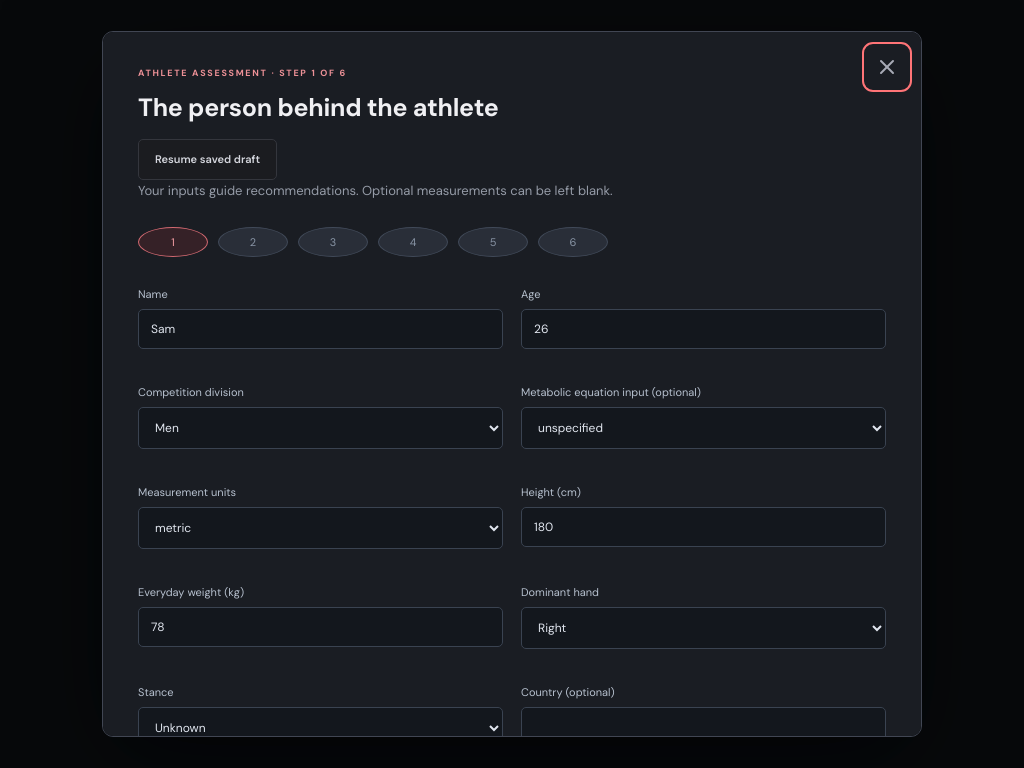
Scenario: athlete assessment › converts imperial measurements to canonical metric values
Select "imperial" in the dropdown labelled "Measurement units" at (320, 528), box [138, 508, 503, 550]
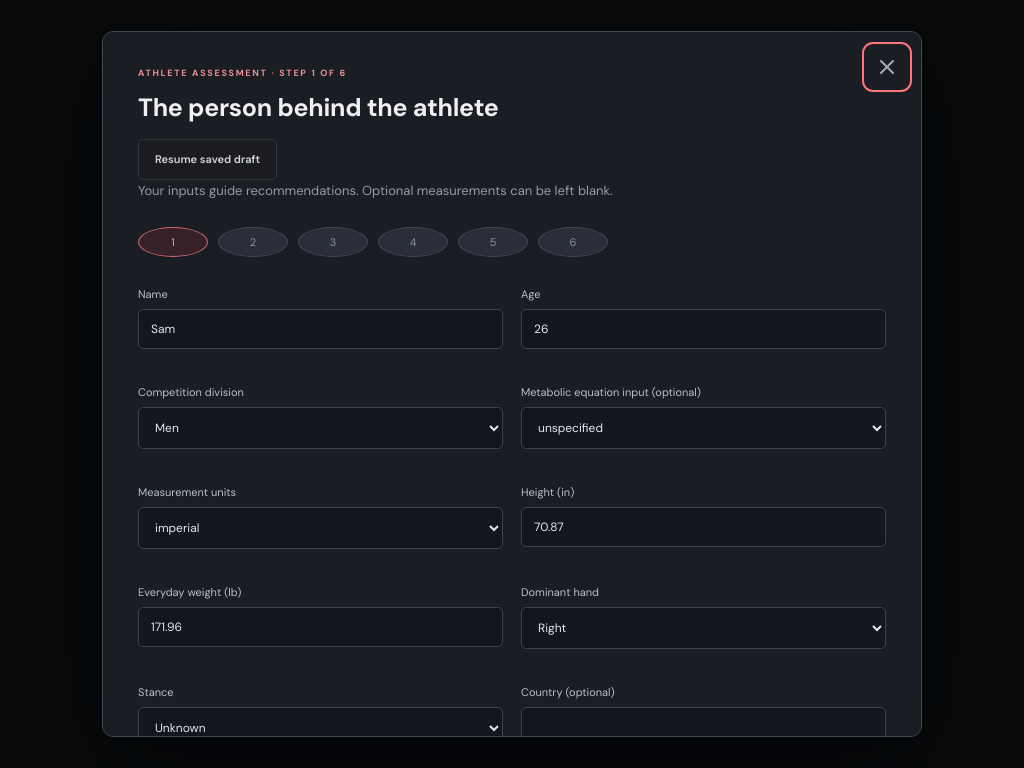
Replace the text in the number field labelled "Height (in)" with "72" at (704, 528), box [521, 508, 886, 548]
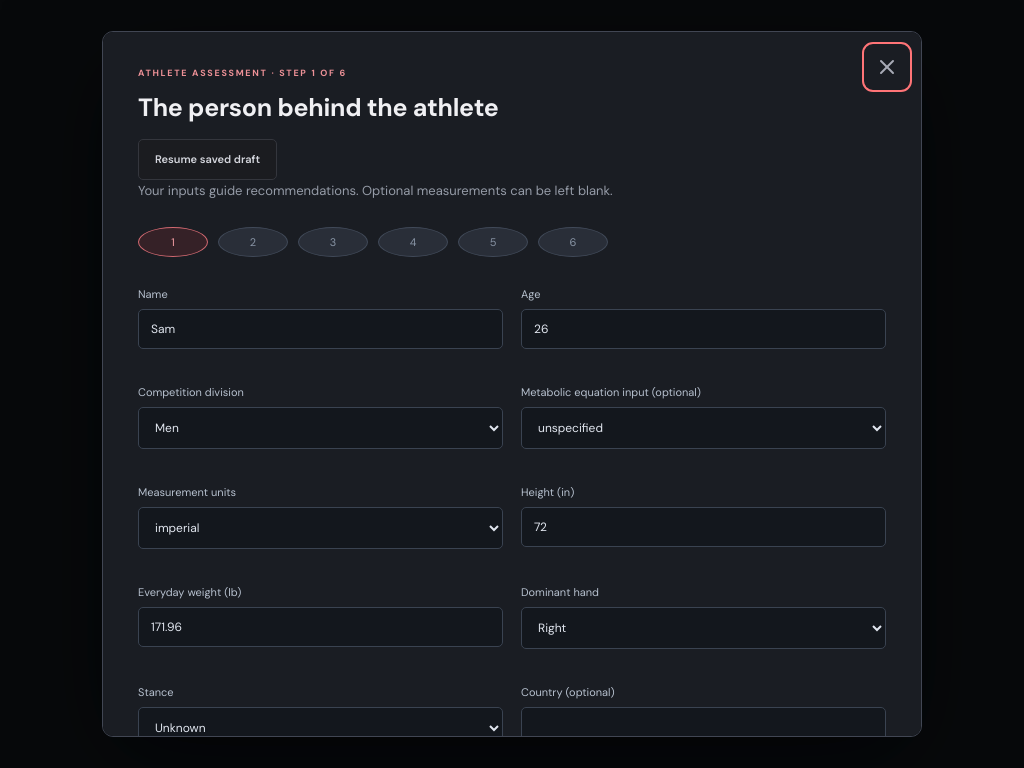
Select "metric" in the dropdown labelled "Measurement units" at (320, 528), box [138, 508, 503, 550]
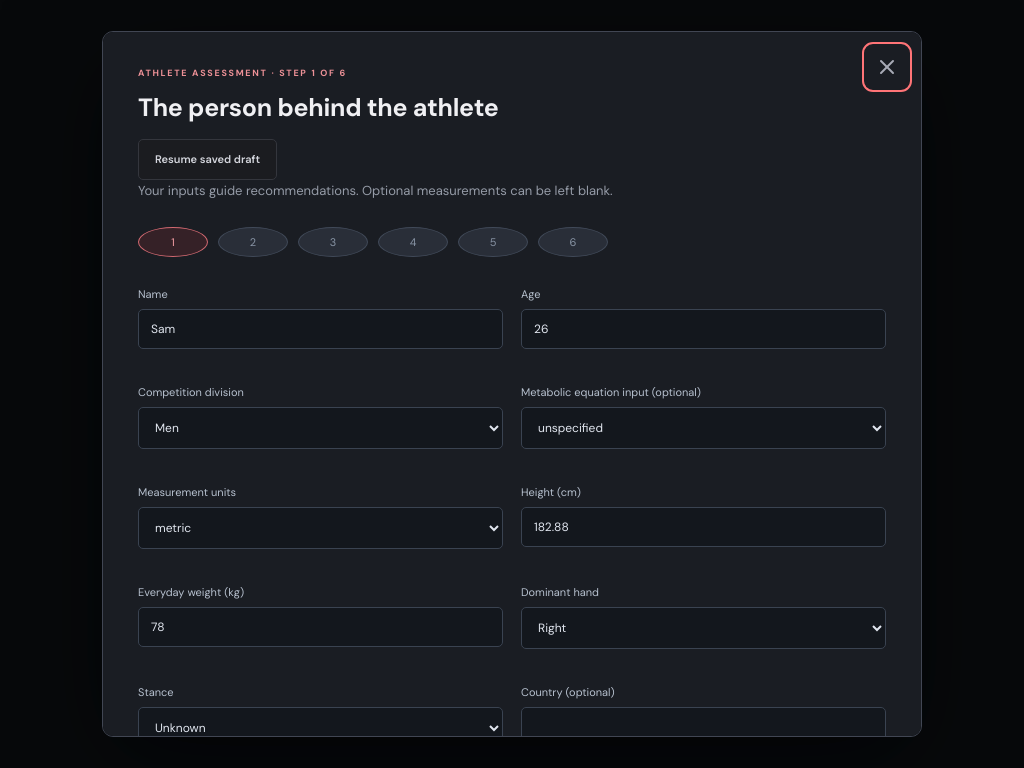
expect the number field labelled "Height (cm)" holds "182.88": met, box [521, 508, 886, 548]
